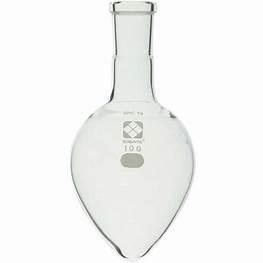Pear shaped flask: (72, 11, 203, 259)
